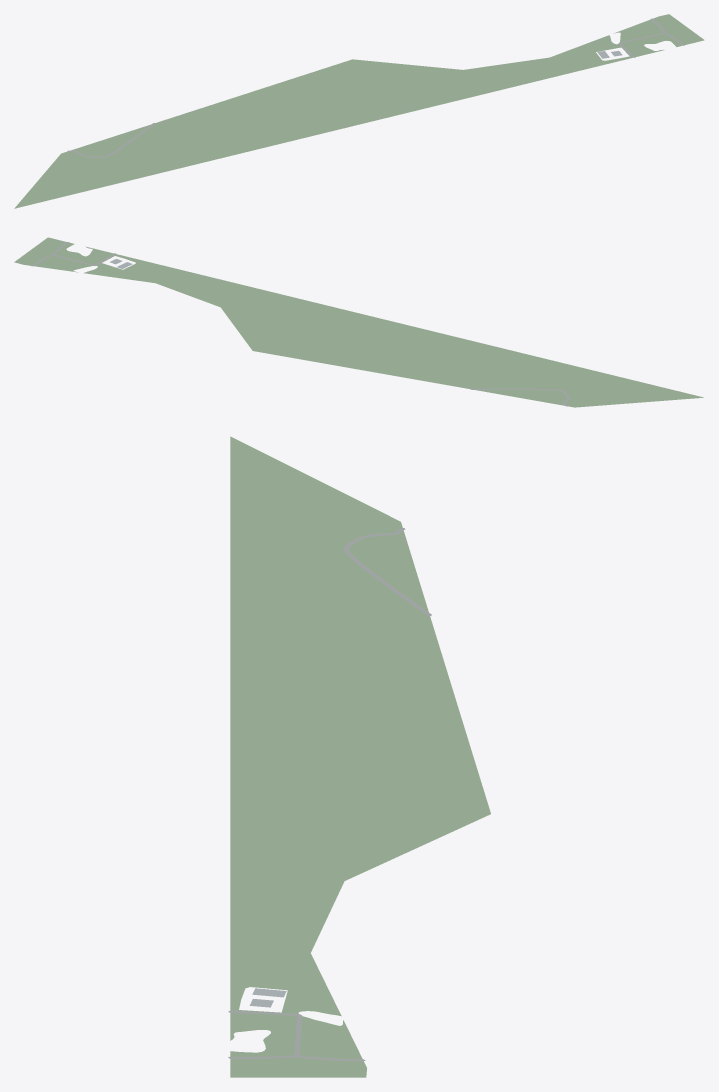
Rendered from 15_9-known-coarse.glb.
The picture shows the model from 3 angles, top to bottom: view 1: azimuth 30°, elevation 25°; view 2: azimuth 150°, elevation 25°; view 3: azimuth 270°, elevation 25°; orthographic projection. The views are drawn at different scales.
Bounding box in the file's own units: 921 × 0.15 × 160.
